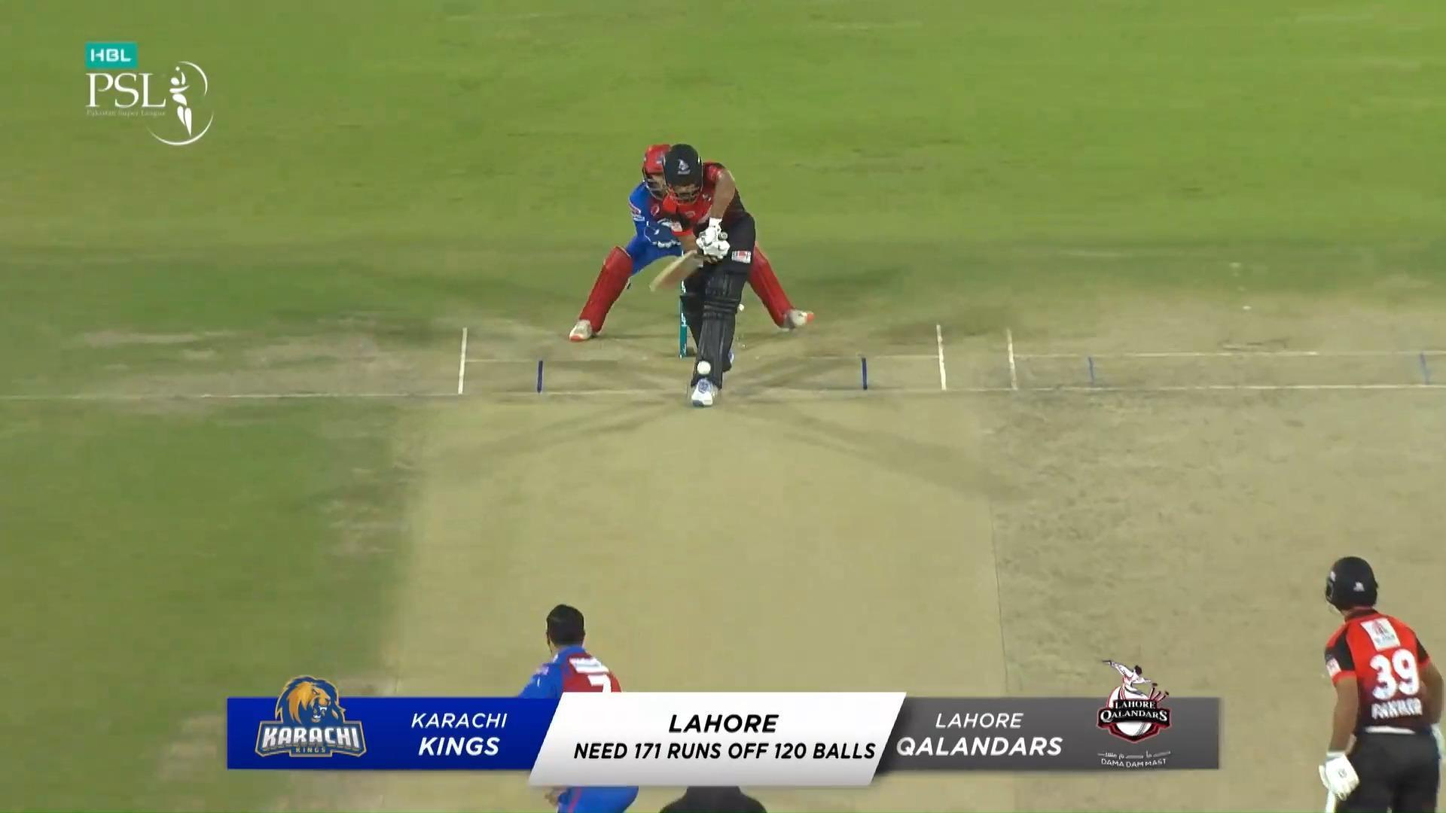BM 1: (647, 143, 756, 408)
BO: (514, 603, 641, 813)
